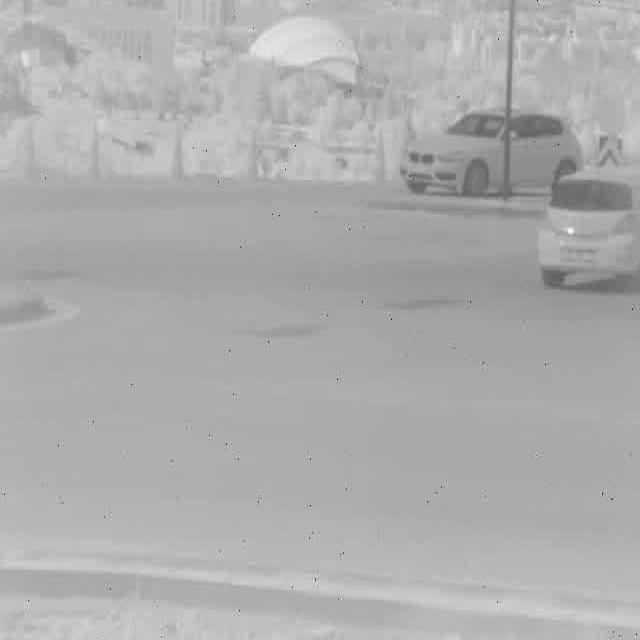Car: (398, 110, 582, 190), (534, 162, 640, 290)
